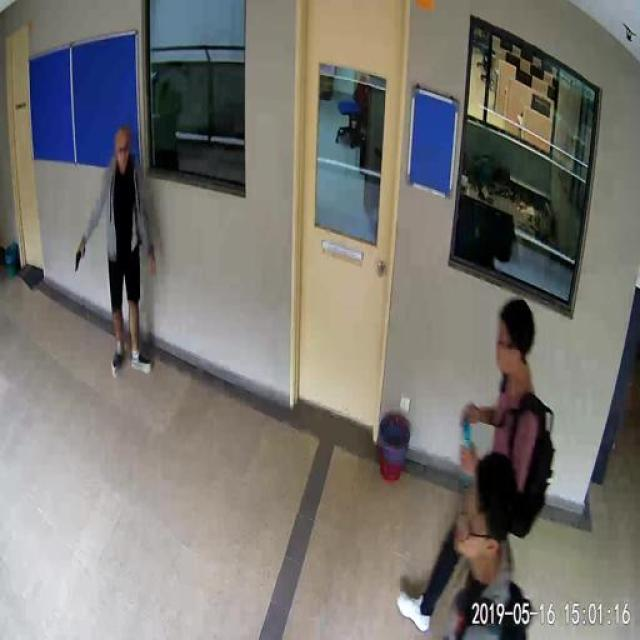Gun: (67, 236, 95, 277)
